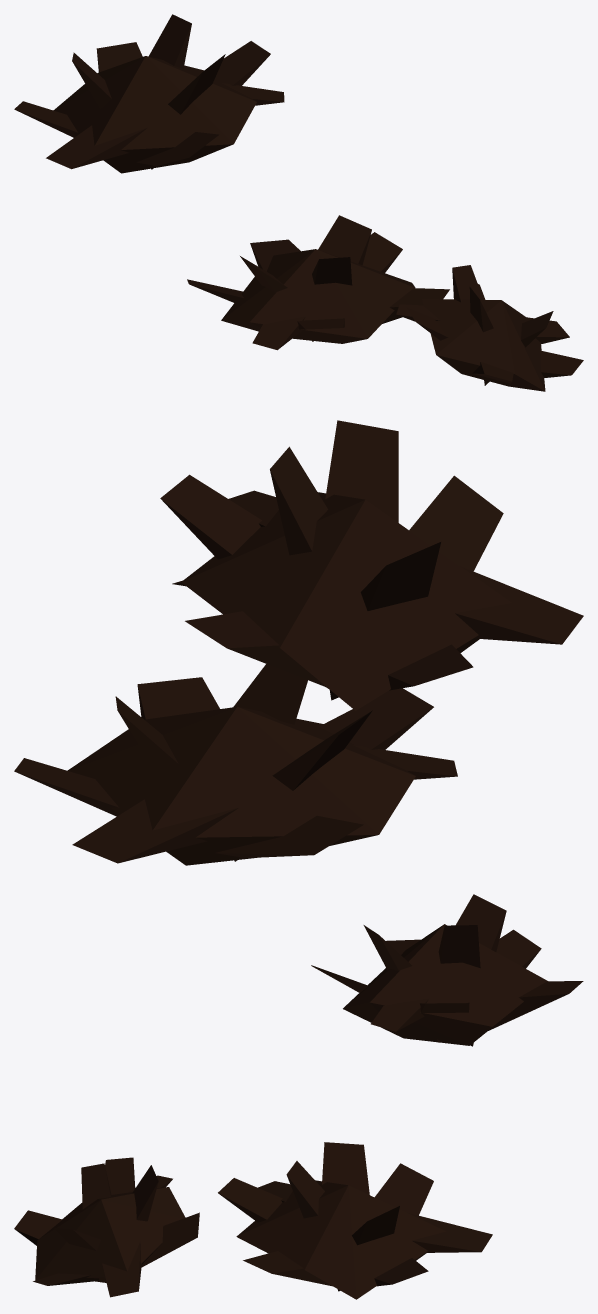
The model's file is flower-dandelion-floating-mature-a.fbx.
3 views of the same model, one above another, from view 1: azimuth 30°, elevation 25°; view 2: azimuth 150°, elevation 25°; view 3: azimuth 270°, elevation 25° (orthographic). The views are drawn at different scales.
Parts seen in each view (by area): view 1: flower-dandelion-floating-mature-a; view 2: flower-dandelion-floating-mature-a; view 3: flower-dandelion-floating-mature-a.
Part boxes in pixels (<box>): flower-dandelion-floating-mature-a: <box>14,14,583,391</box>; flower-dandelion-floating-mature-a: <box>14,420,583,865</box>; flower-dandelion-floating-mature-a: <box>14,894,583,1299</box>.
Size of the model in its own units: 275 by 212 by 347.
